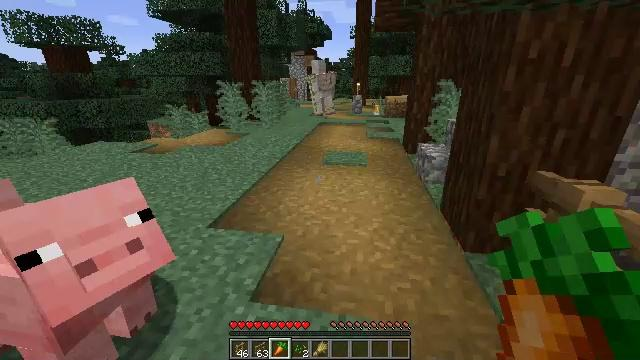pig: (0, 177, 172, 360)
